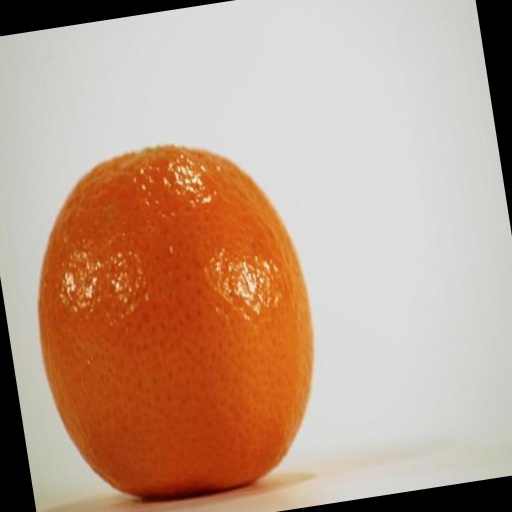fruit: (1, 201, 106, 512)
